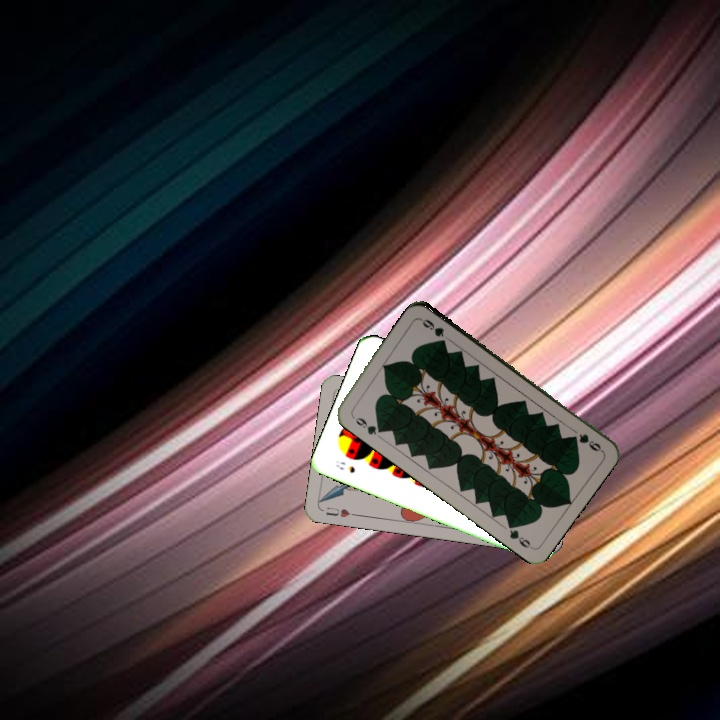G9: (347, 410, 385, 438), (575, 430, 605, 454)
HU: (322, 503, 359, 520)
S8: (332, 456, 357, 476)
